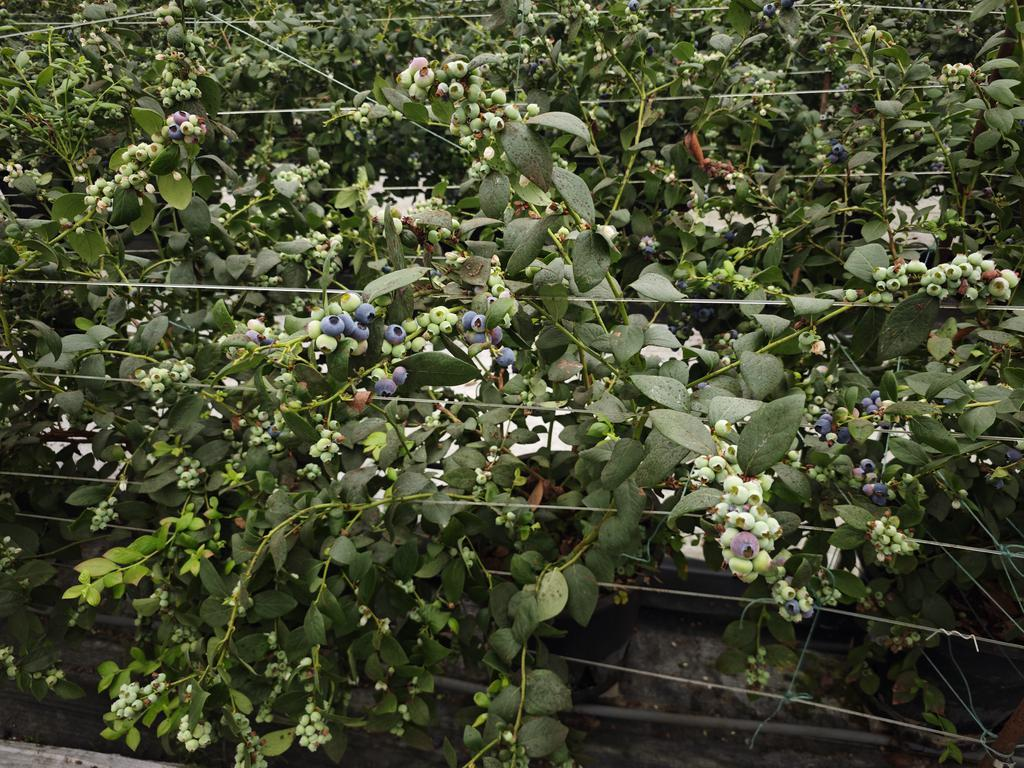RipeBlueBerry: (321, 314, 345, 337), (355, 302, 377, 326), (384, 323, 407, 345), (373, 379, 397, 398), (497, 348, 516, 367)
Semi-RipeBlueBerry: (730, 531, 761, 562)
UnripeBlueBerry: (728, 558, 753, 579), (413, 66, 436, 88), (428, 307, 447, 325)
